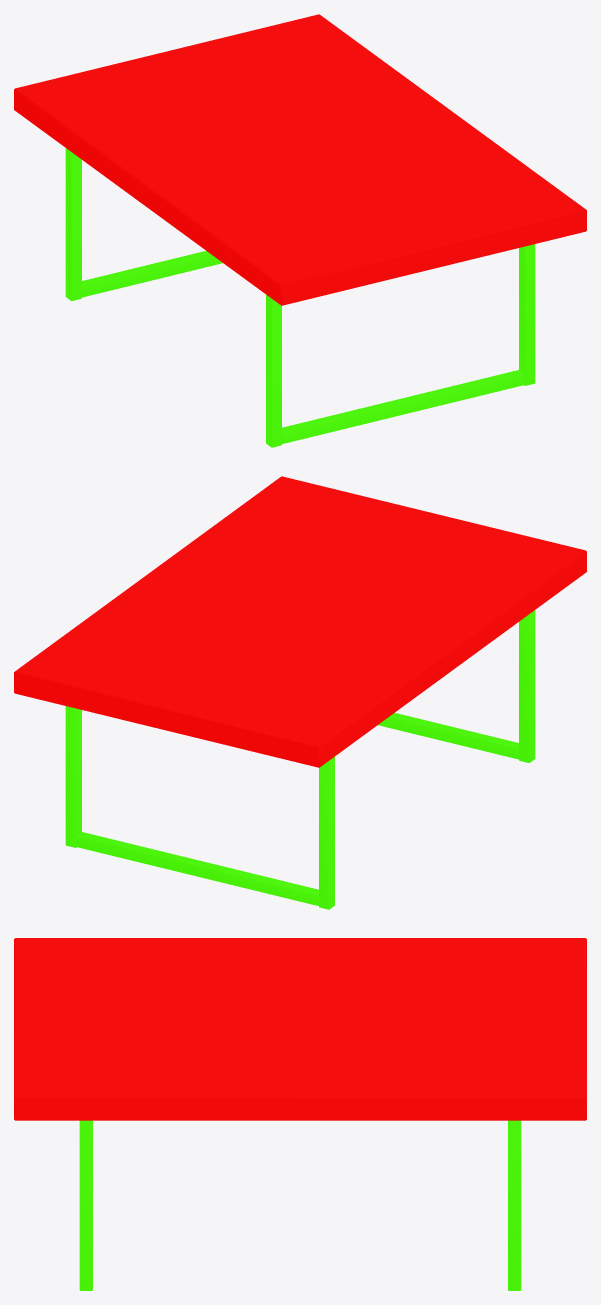
File: Table.fbx
3 renders of one model, top to bottom at view 1: azimuth 30°, elevation 25°; view 2: azimuth 150°, elevation 25°; view 3: azimuth 270°, elevation 25°, orthographic. The views are drawn at different scales.
Parts seen in each view (by area): view 1: Tisch; view 2: Tisch; view 3: Tisch.
Part boxes in pixels (x1,y1,x2,y2): Tisch: (14,14,586,447); Tisch: (14,476,586,909); Tisch: (14,938,586,1290).
Size of the model in its own units: 144 by 86 by 218.
